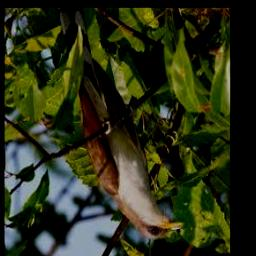Cuckoo: (56, 8, 184, 240)
